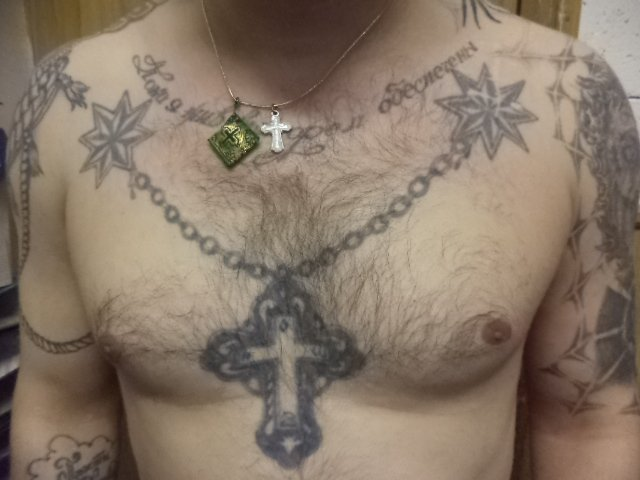tatu4_zvezda: (437, 65, 539, 160), (78, 91, 153, 190)
tatu9_krest: (203, 282, 364, 466)
